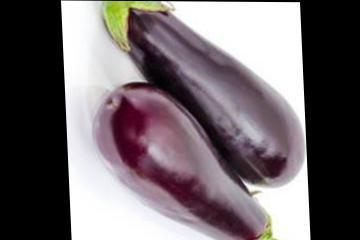eggplant: (91, 0, 297, 239)
